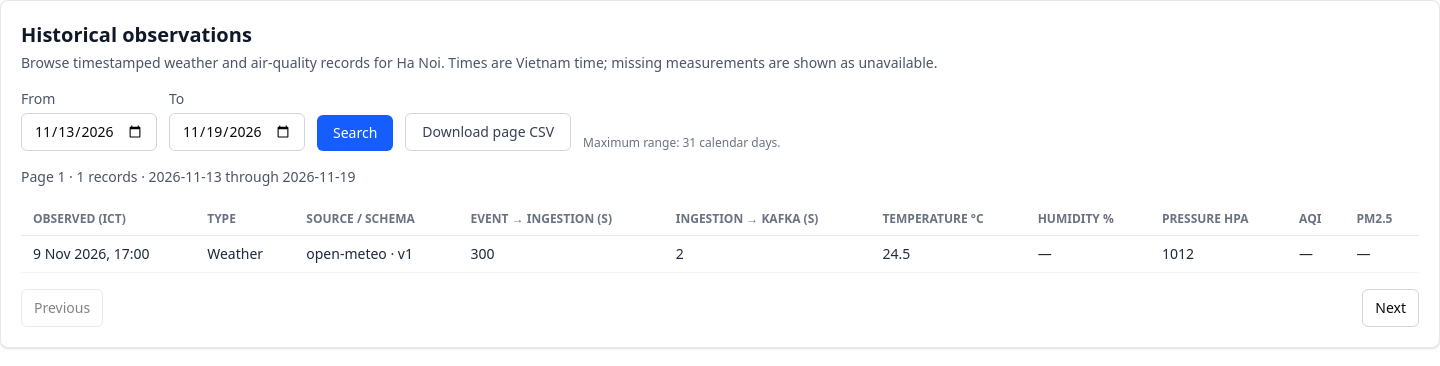
Test: HistoryBrowser › displays source timestamps and unavailable fields, and requests the next cursor page
The width and height of the screenshot is (1440, 366).
Expected: the text "open-meteo · v1" is shown, [294,236,459,272]
Expected: the 1st text "—" is shown, [1026,236,1150,272]
Click the button "Next" at x=1391, y=308, box [1362,289,1419,327]
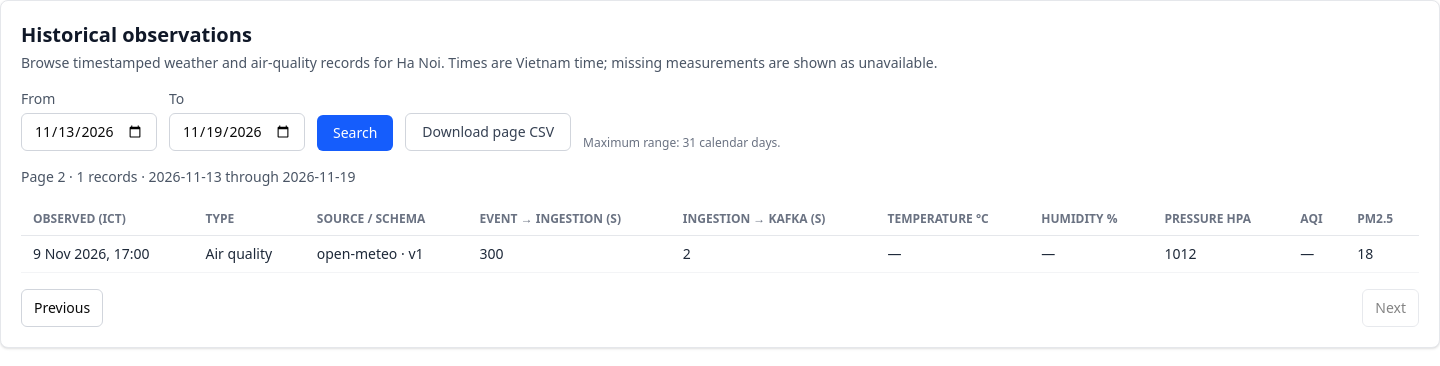
Now the text "Air quality" is shown, box [194,236,305,272]
